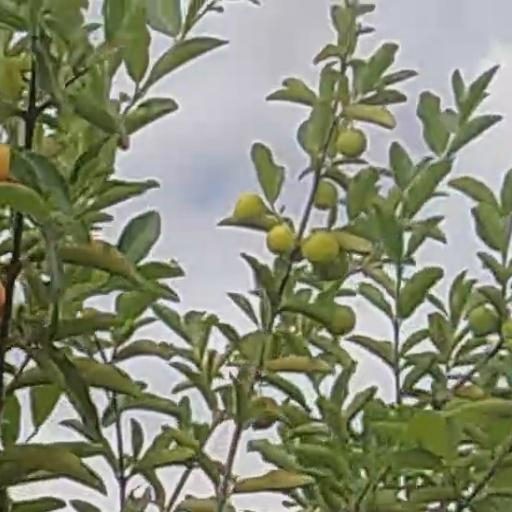acerola: (305, 234, 338, 265), (268, 226, 295, 253), (339, 131, 365, 153), (316, 184, 337, 209)
